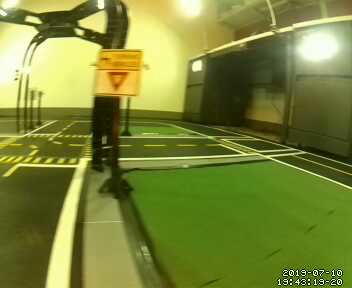Turn Yield: (90, 49, 144, 97)
